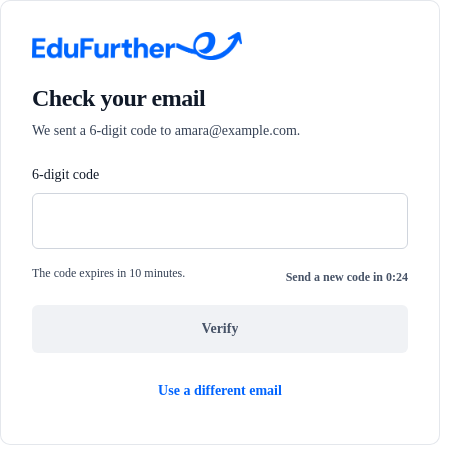
SignInForm — code › says where the code went and checks itself at six digits
Expected: the text "We sent a 6-digit code to amara@example.com." is shown, [32,123,300,138]
Type "48a29 13" into the field labelled "6-digit code" at coordinates (220, 221), box [32,193,408,249]
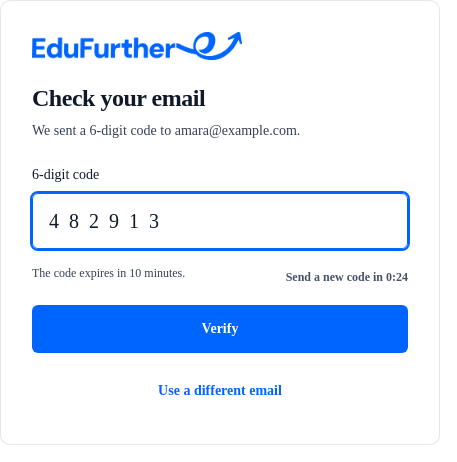
Expected: the field labelled "6-digit code" holds "482913", [32,193,408,249]
